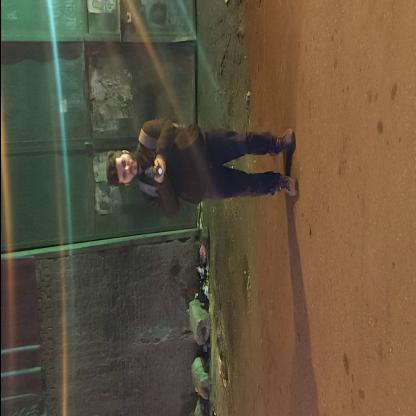long weapon: (139, 149, 169, 193)
